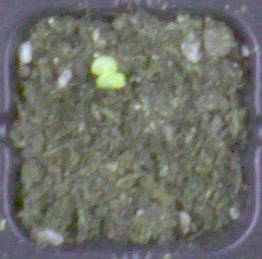chilli seed: (91, 55, 118, 73), (96, 73, 126, 88)
